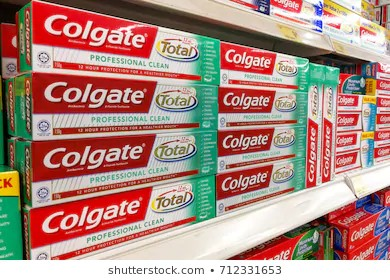colgate-family: (337, 93, 377, 131), (337, 135, 374, 170)
colgate-medium: (23, 177, 217, 262), (16, 130, 217, 208), (17, 10, 219, 77), (10, 81, 218, 141), (214, 158, 309, 218), (222, 124, 308, 168), (220, 88, 309, 128), (220, 52, 309, 82), (337, 201, 387, 254), (321, 89, 340, 182), (309, 84, 321, 185)
